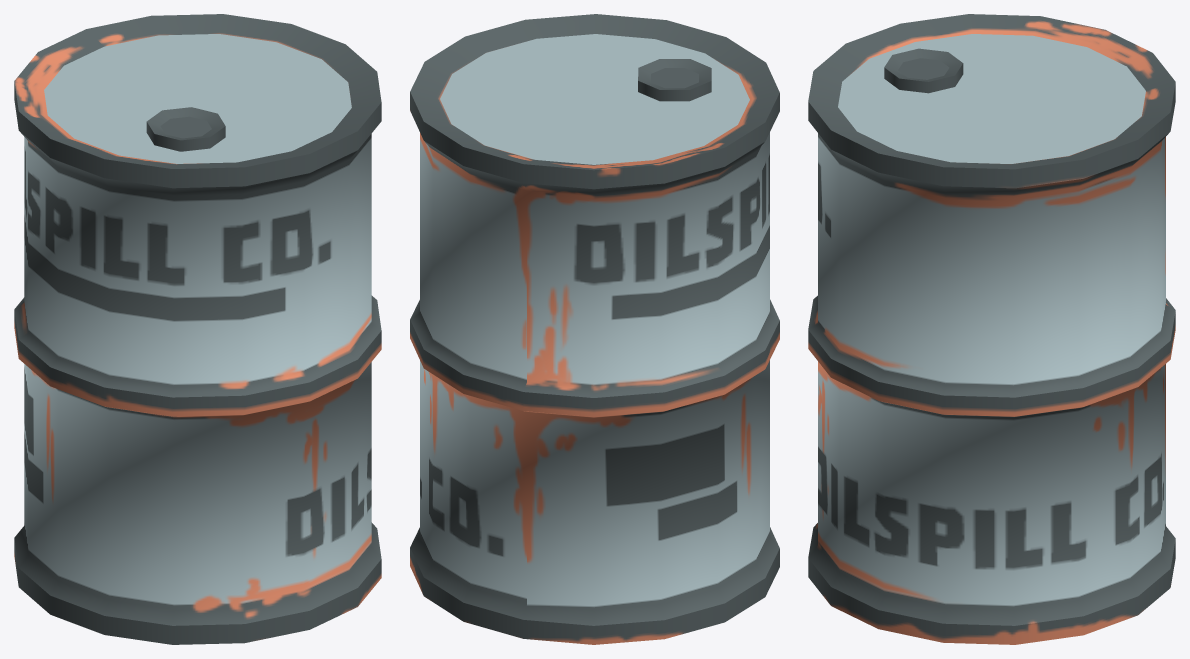
Rendered from OilBarel1.glb.
3 renders of one model, left to right at view 1: azimuth 30°, elevation 25°; view 2: azimuth 150°, elevation 25°; view 3: azimuth 270°, elevation 25°, orthographic.
Parts seen in each view (by area): view 1: OilBarel1; view 2: OilBarel1; view 3: OilBarel1.
Part boxes in pixels (x1,y1,x2,y2): OilBarel1: [14, 14, 381, 644]; OilBarel1: [410, 14, 779, 644]; OilBarel1: [808, 14, 1175, 644].
Bounding box in the file's own units: 0.6292 × 0.9059 × 0.6292.
Materials: 1 (1 with a texture image).
